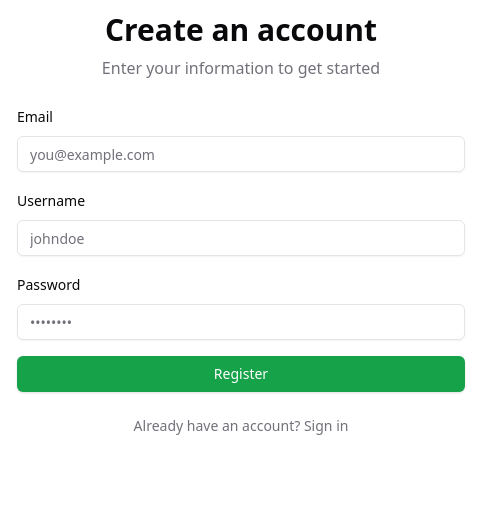
it: RegisterForm › displays generic error message for network errors
The width and height of the screenshot is (483, 512).
Type "test@example.com" into the field labelled "Email" at (241, 154), box [17, 136, 465, 172]
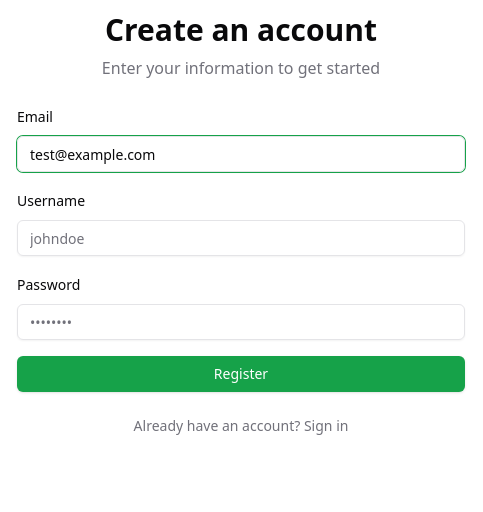
Type "testuser" into the field labelled "Username" at (241, 238), box [17, 220, 465, 256]
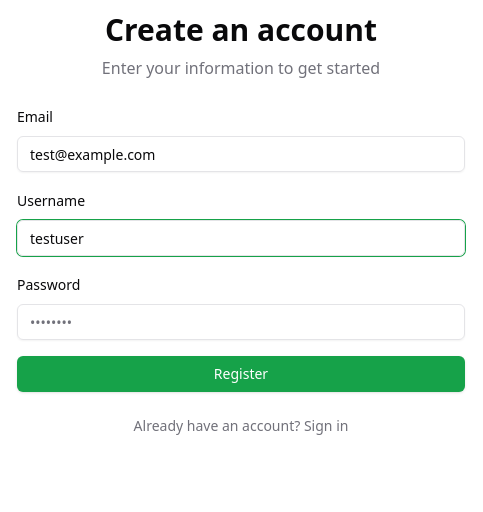
Type "testpass123" into the password field labelled "Password" at (241, 322), box [17, 304, 465, 340]
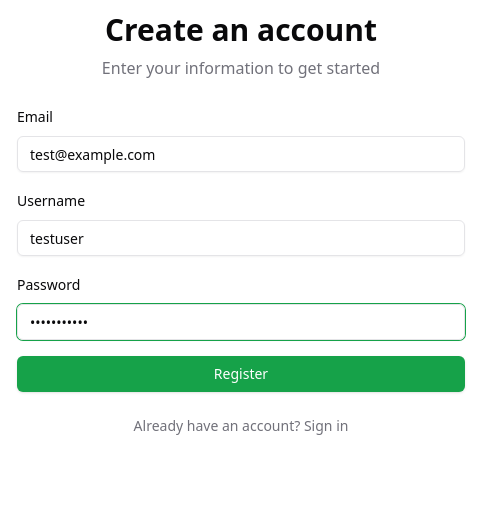
Click the button "Register" at (241, 374), box [17, 356, 465, 392]
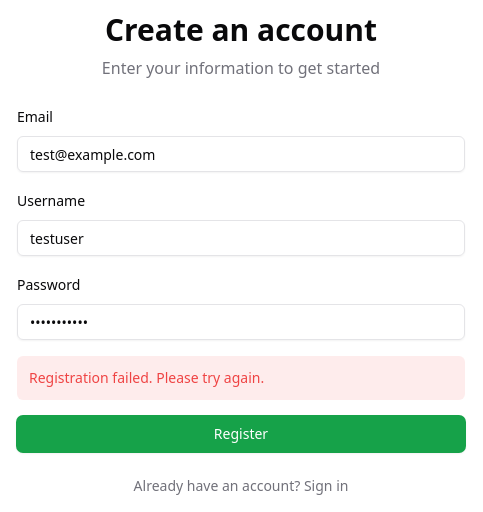
expect the text "Registration failed. Please try again." is shown: met, box [17, 356, 465, 400]
